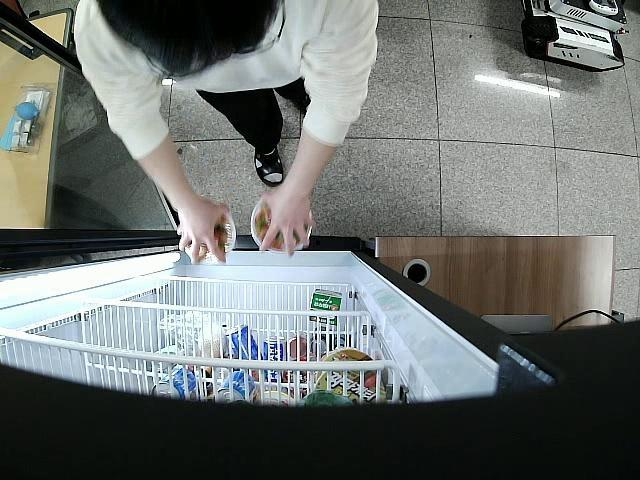09_yukGaeJang: (250, 204, 312, 253), (184, 214, 236, 259)
